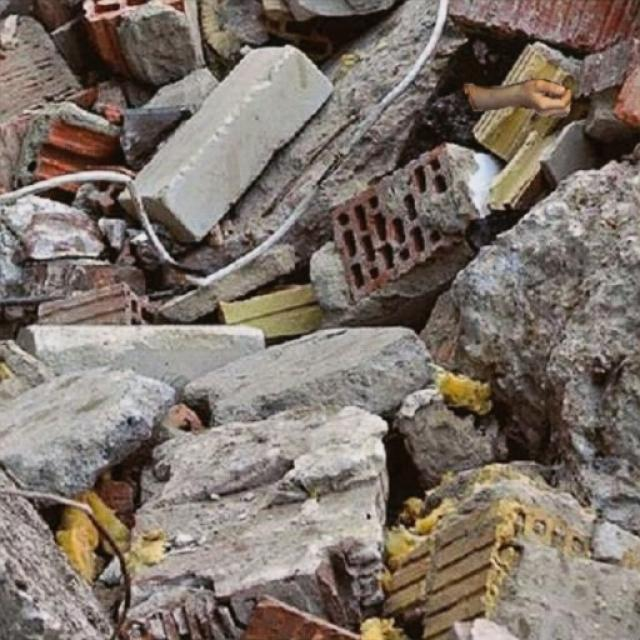Person in Rubble: (464, 77, 570, 116)
